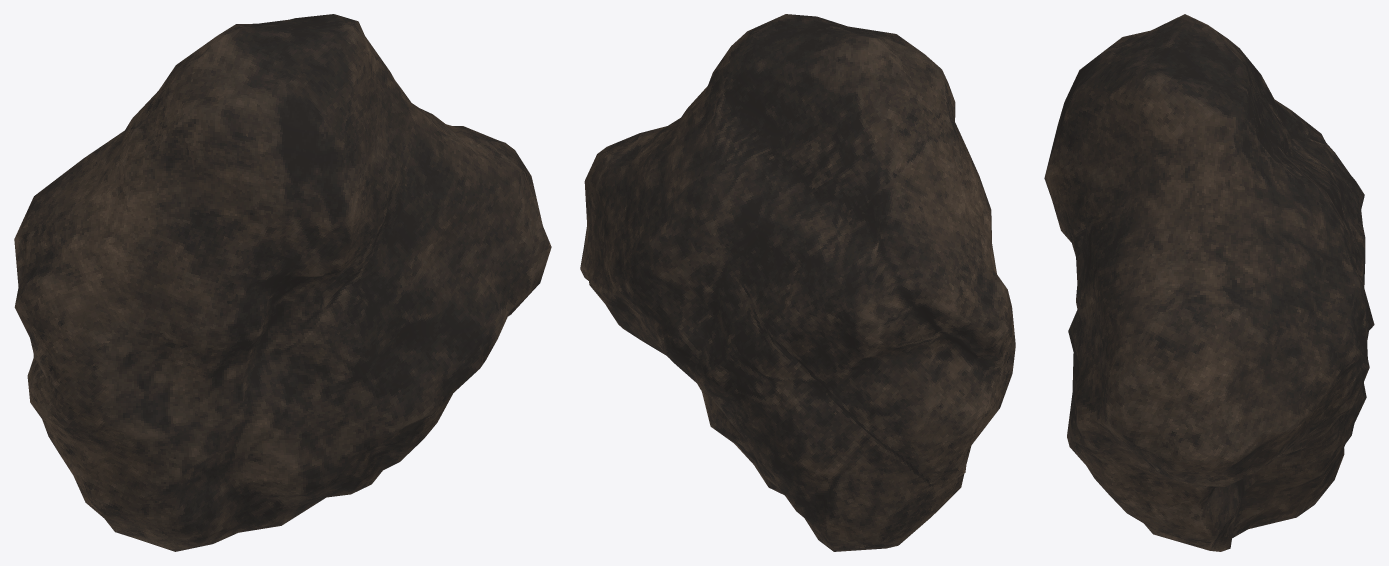
The model's file is SM_RP2_Rock_4m_6.002.glb.
3 renders of one model, left to right at view 1: azimuth 30°, elevation 25°; view 2: azimuth 150°, elevation 25°; view 3: azimuth 270°, elevation 25°, orthographic. The views are drawn at different scales.
Visible parts, largest first — view 1: SM_RP2_Rock_4m_6.002; view 2: SM_RP2_Rock_4m_6.002; view 3: SM_RP2_Rock_4m_6.002.
Boxes of the visible parts, x1,y1,x2,y2 form: SM_RP2_Rock_4m_6.002: (14, 14, 551, 551); SM_RP2_Rock_4m_6.002: (580, 14, 1015, 551); SM_RP2_Rock_4m_6.002: (1044, 14, 1374, 551).
Size of the model in its own units: 7.2 by 7.47 by 4.32.
1 material, 1 textured.
